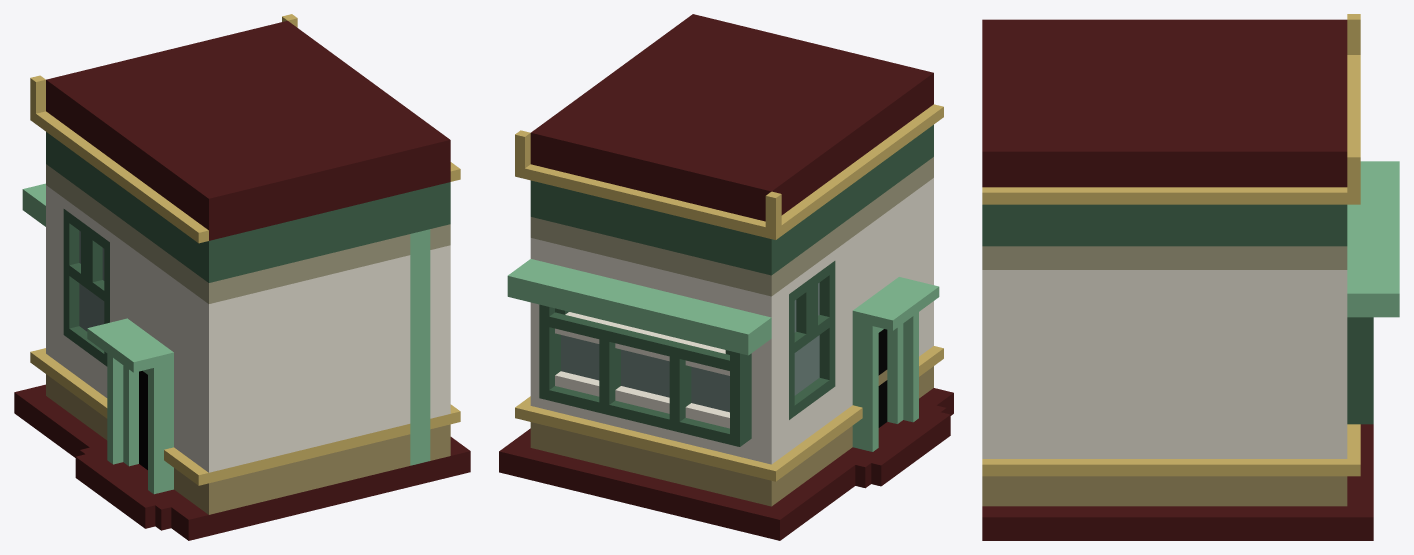
The model's file is tile_1_right_nr_90.obj.
3 renders of one model, left to right at view 1: azimuth 30°, elevation 25°; view 2: azimuth 150°, elevation 25°; view 3: azimuth 270°, elevation 25°, orthographic. The views are drawn at different scales.
Size of the model in its own units: 3 by 3.2 by 3.2.
